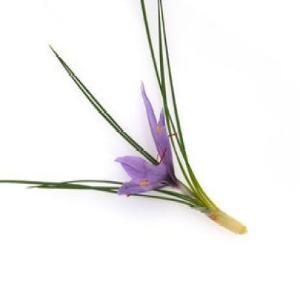Saffron: (119, 100, 184, 207)
